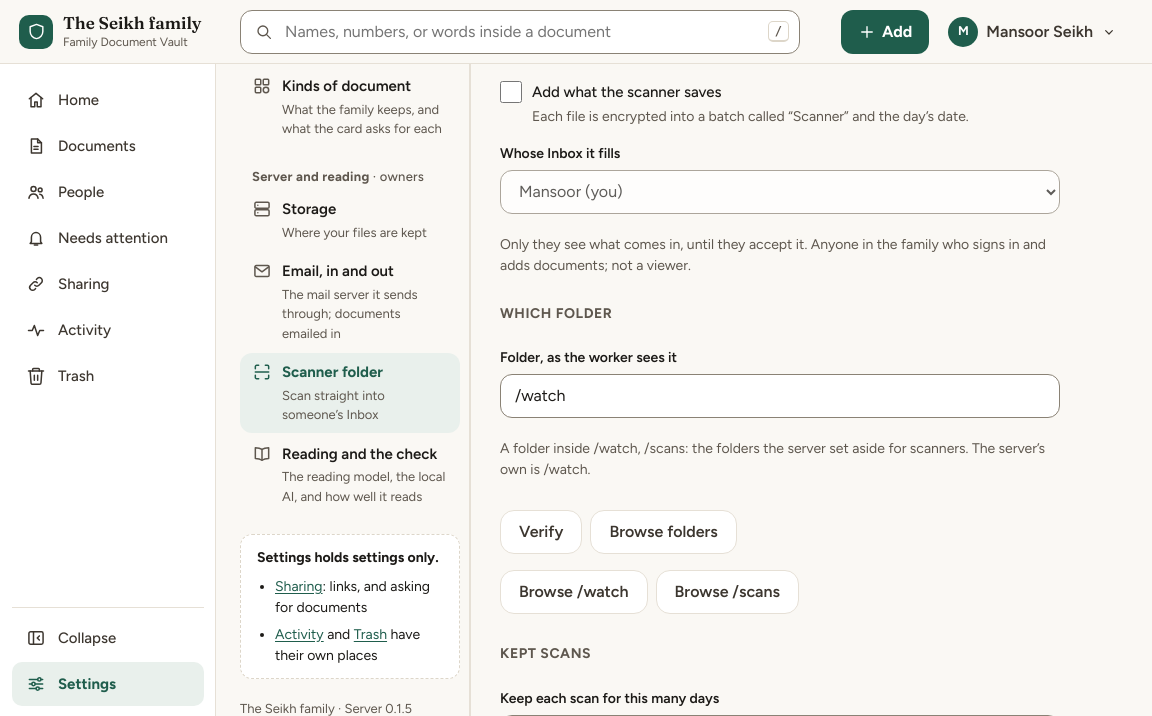
Test: the scanner folder chosen in Settings (O1) › a path the server refuses is said in its words
(page scrolled)
# The form starts from what the vault has: only then is it changed.
Replace the text in the field labelled "Folder, as the worker sees it" with "/home/me": (780, 396) [500,374,1060,418]
(page scrolled)
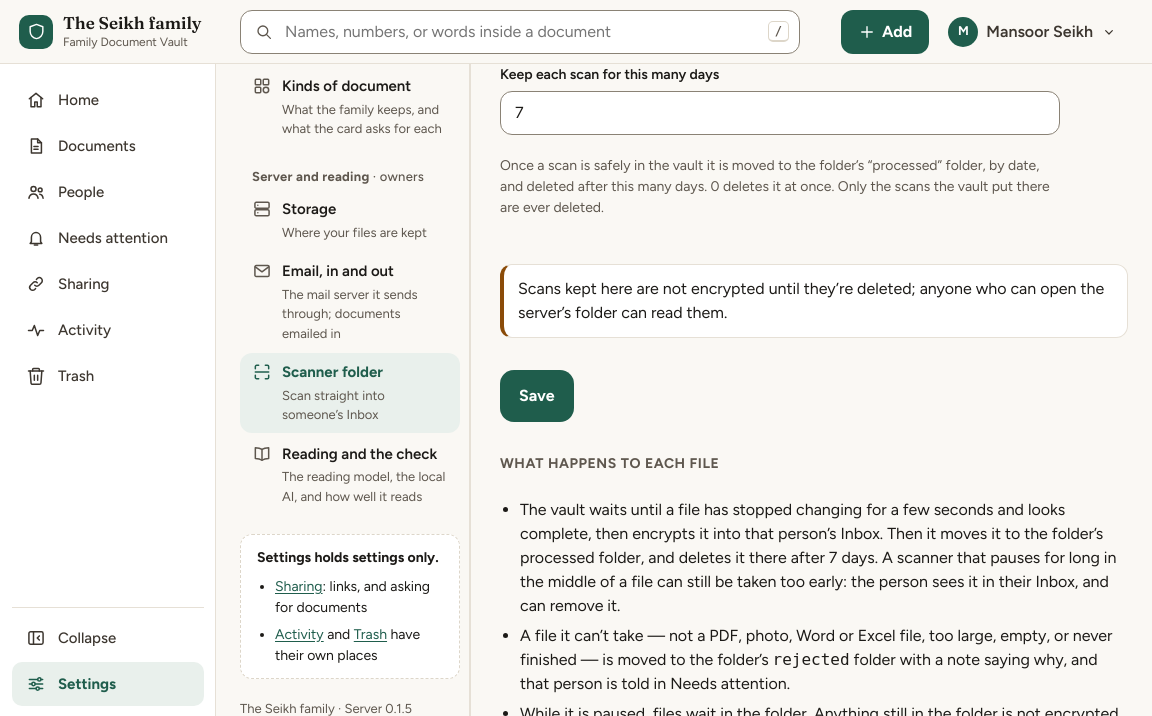
Click the button "Save": (537, 396) [500,370,574,422]
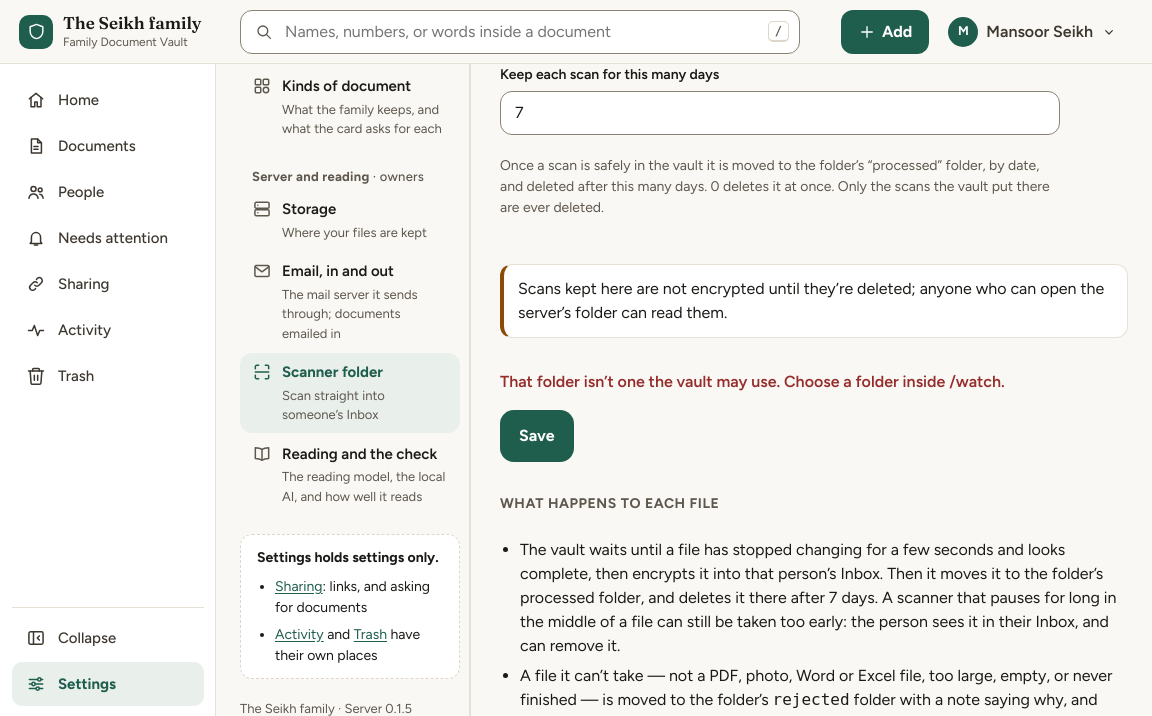
expect the text "That folder isn’t one the vault may use. Choose a folder inside /watch." is shown: met, box [500,372,1005,391]
